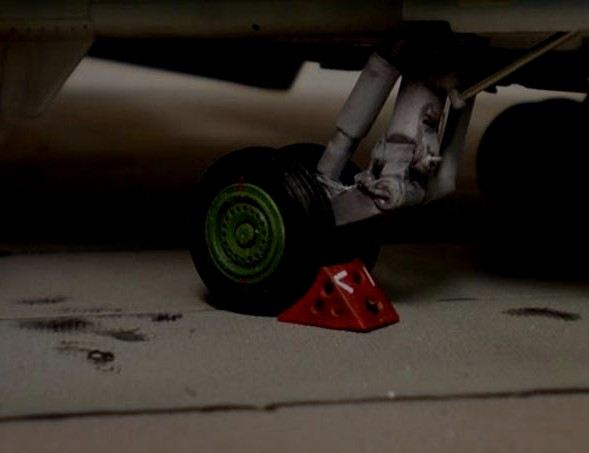chock: (275, 255, 401, 332)
wheel: (185, 146, 335, 316), (476, 100, 585, 231)
